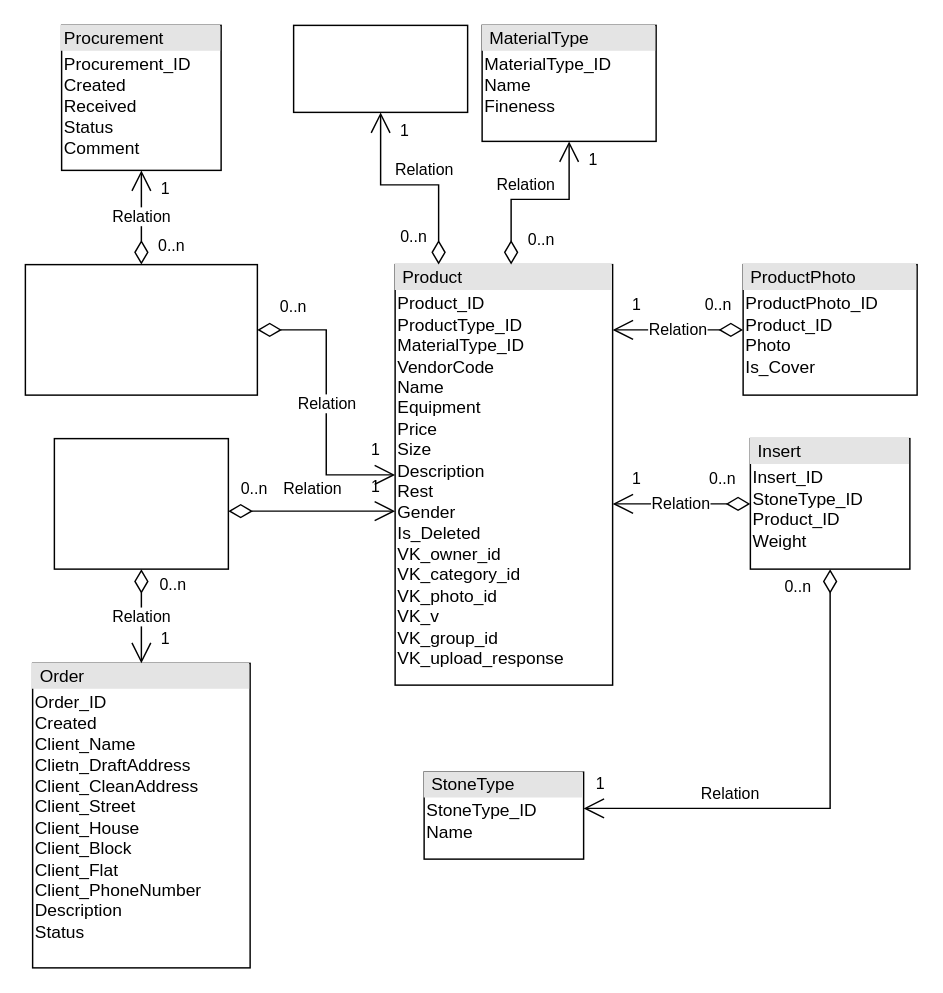
The diagram is 943 pixels wide and 993 high, and some of its shapes have lost their labels. The shapes that lost their labels are listed below. From the top down, each one's centre as x and y in pixels, then its label:
At (x=380, y=68): "ProductType ProductType_ID Name".
At (x=140, y=329): "ProcurementProduct ProcurementProduct_ID Procurement_ID Product_ID Product_count".
At (x=140, y=503): "OrderProduct OrderProduct_ID Order_ID Product_ID Product_count".
